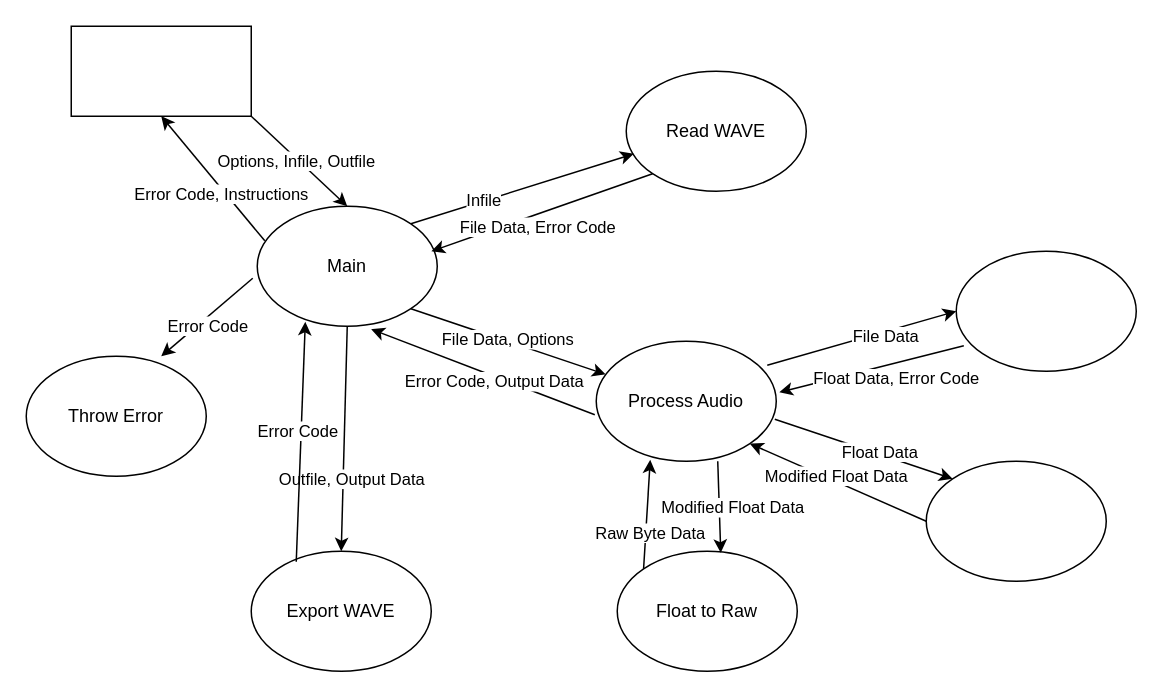
The diagram is 1163 pixels wide and 698 high, and some of its shapes have lost their labels. Here are the shapes that lost their labels. From the top down, the box of each, then its label:
(70, 25, 251, 116): User
(955, 250, 1136, 371): WAVE to Float
(925, 460, 1106, 581): Processing Function
